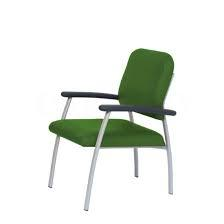chair: (21, 29, 203, 218)
